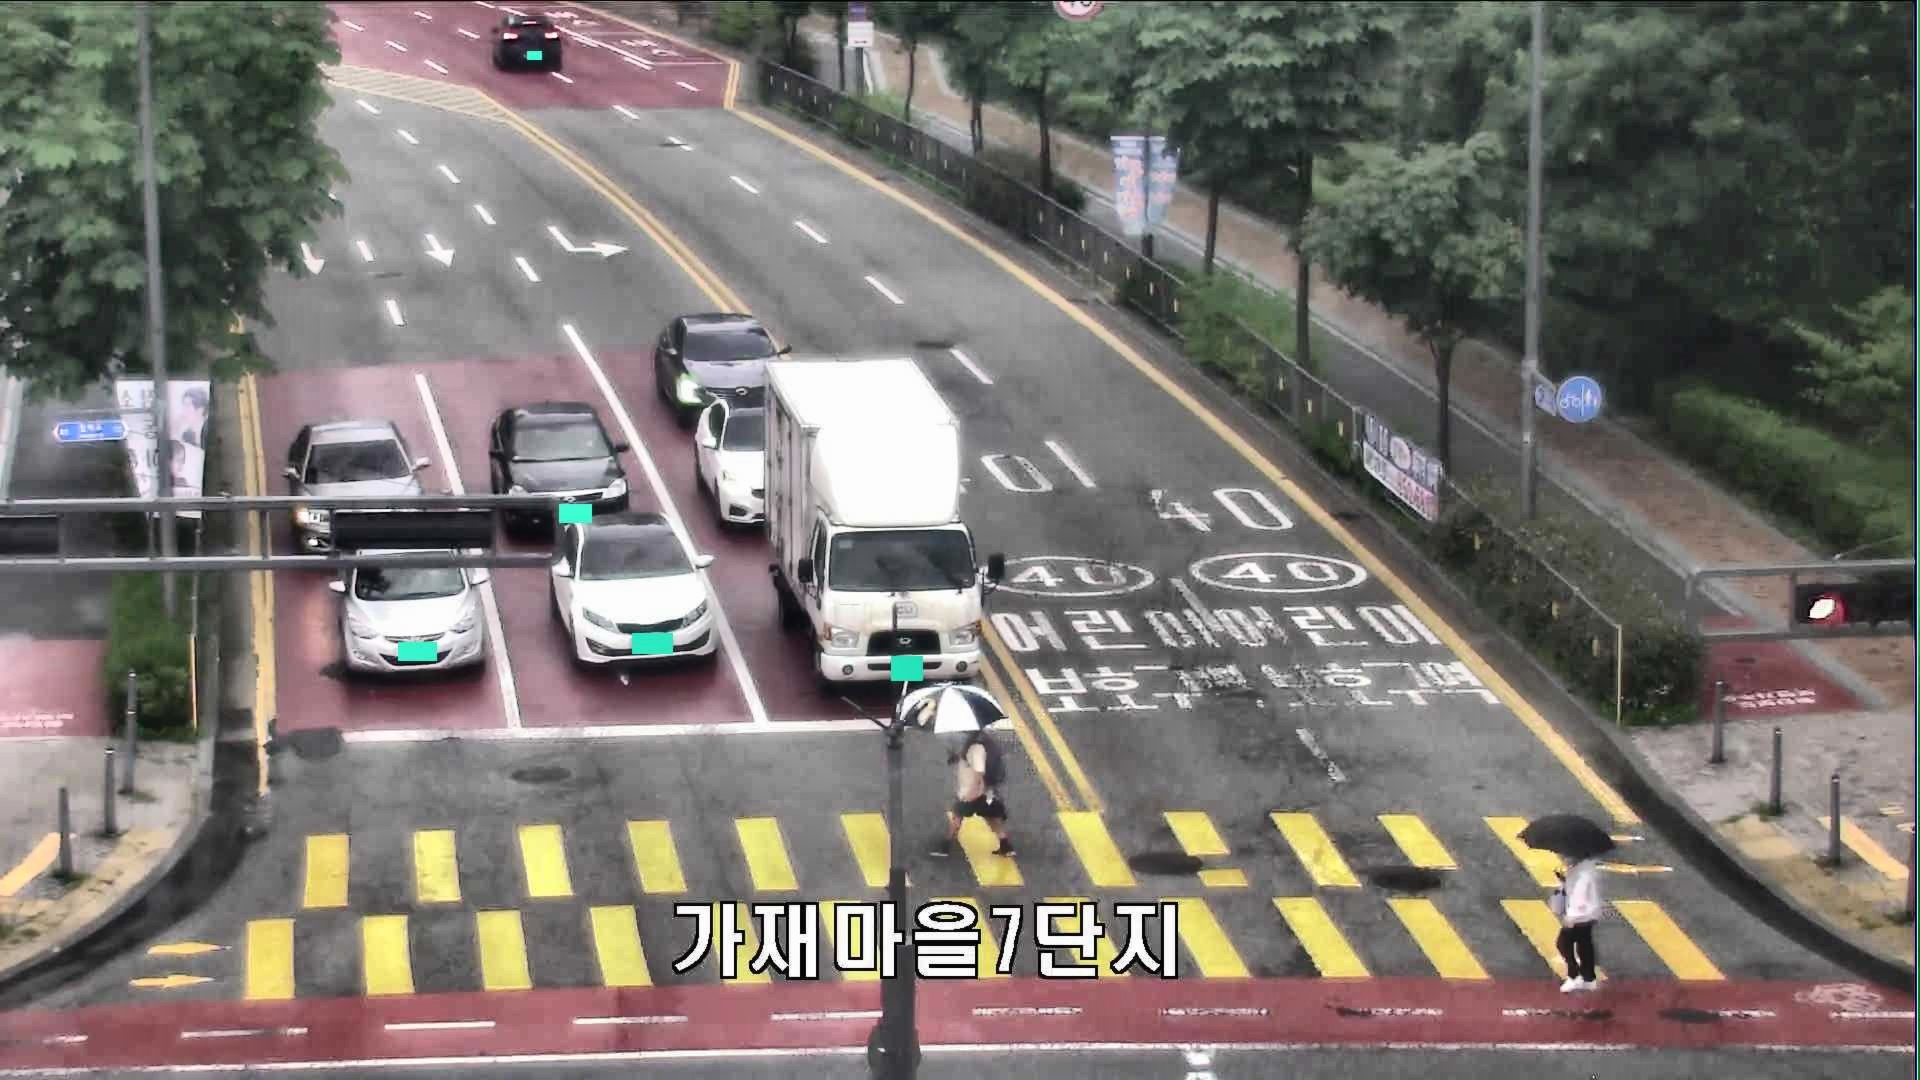um_crosswalk: (901, 682, 1019, 858), (1514, 814, 1615, 992)
